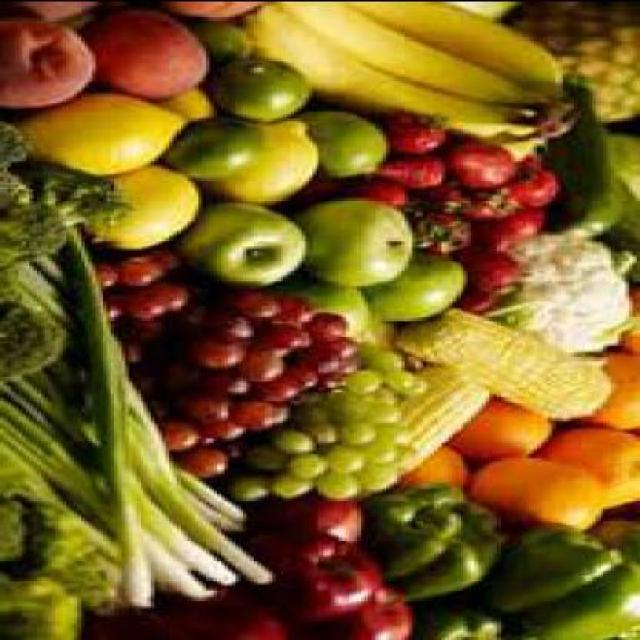BIODEGRADABLE: (246, 2, 574, 140), (3, 402, 243, 588), (8, 358, 254, 530), (62, 232, 155, 611), (4, 432, 213, 598), (287, 2, 573, 115), (397, 309, 618, 422), (132, 422, 283, 584), (349, 2, 571, 98), (474, 524, 638, 638), (360, 483, 508, 600), (511, 238, 638, 362), (3, 482, 132, 604), (508, 2, 638, 122), (18, 95, 195, 178), (551, 82, 638, 243), (239, 534, 386, 620), (70, 166, 205, 252), (88, 11, 217, 100), (397, 366, 500, 477), (184, 203, 313, 289), (91, 586, 300, 639), (298, 200, 419, 289), (474, 457, 614, 532), (210, 119, 327, 208), (22, 163, 140, 245), (532, 426, 638, 512), (4, 18, 99, 108), (4, 177, 70, 300), (448, 399, 560, 464), (209, 59, 317, 124), (3, 288, 74, 386), (372, 256, 474, 322), (304, 586, 422, 639), (301, 112, 394, 178), (566, 352, 639, 434), (238, 497, 368, 543), (170, 122, 268, 181), (3, 576, 89, 638), (410, 597, 524, 638), (460, 251, 534, 294), (452, 144, 523, 187), (192, 23, 258, 66), (412, 448, 474, 492), (382, 116, 456, 152), (603, 291, 639, 363), (496, 128, 570, 163), (511, 164, 567, 207), (386, 154, 452, 188), (162, 88, 224, 124), (490, 208, 552, 243), (419, 214, 475, 252), (166, 2, 280, 20), (118, 284, 176, 318), (3, 2, 111, 20), (419, 180, 472, 214), (242, 353, 295, 387), (121, 256, 173, 290), (357, 186, 423, 212), (235, 402, 291, 432), (298, 408, 342, 446), (464, 190, 522, 218), (471, 223, 529, 251), (225, 289, 283, 317), (195, 344, 254, 370), (184, 393, 236, 421), (180, 451, 232, 478), (334, 388, 374, 422), (262, 324, 304, 356), (4, 124, 33, 170), (173, 300, 216, 331), (258, 375, 305, 403), (448, 2, 520, 20), (500, 294, 537, 329), (210, 318, 258, 344), (294, 351, 346, 375), (202, 375, 258, 397), (203, 413, 246, 441), (313, 312, 353, 342), (305, 182, 361, 203), (114, 338, 158, 364), (361, 466, 404, 492), (236, 474, 279, 500), (332, 446, 374, 472), (276, 430, 319, 455), (370, 393, 404, 424), (468, 291, 510, 315), (364, 353, 408, 375), (165, 366, 202, 392), (327, 474, 364, 500), (250, 448, 290, 472), (280, 475, 320, 499), (168, 422, 202, 450), (387, 373, 430, 395), (283, 300, 317, 325), (132, 320, 170, 342), (317, 338, 357, 358), (342, 426, 382, 446), (294, 457, 331, 478), (353, 371, 387, 392), (291, 367, 320, 388), (100, 267, 125, 291), (382, 428, 412, 448), (158, 256, 192, 272), (372, 448, 401, 466), (523, 155, 548, 170), (405, 450, 423, 465)
